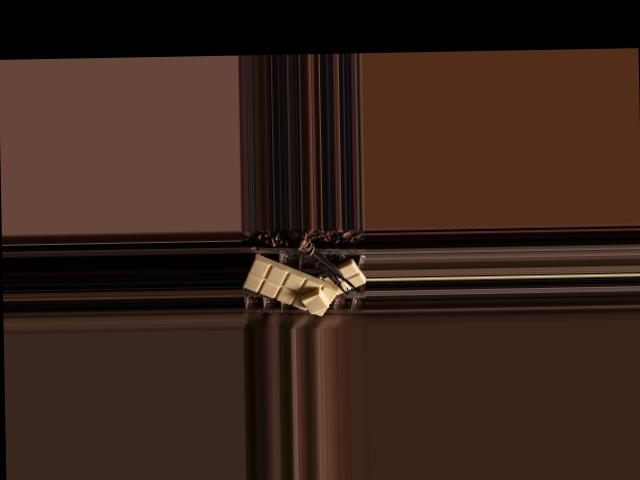chocolate: (243, 254, 341, 316)
